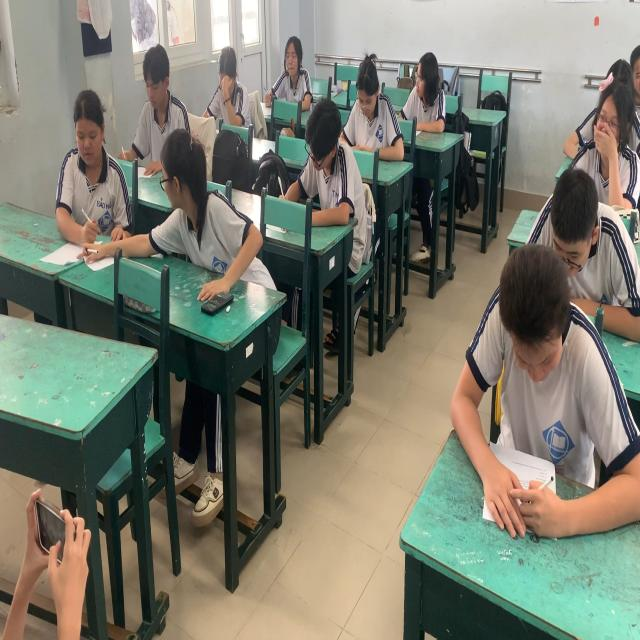cheating: (162, 129, 240, 310), (60, 86, 130, 270)
not_cheating: (478, 242, 622, 516), (541, 160, 635, 306), (298, 95, 357, 252), (585, 68, 640, 214), (342, 51, 398, 171), (133, 36, 184, 163), (207, 41, 253, 141), (401, 46, 446, 144), (274, 32, 310, 120)
